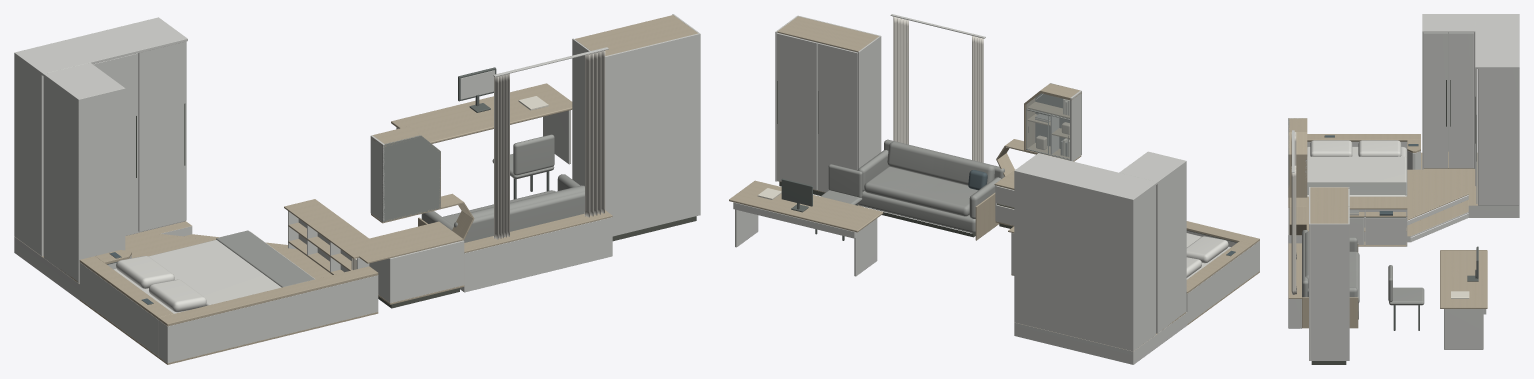
3 views of the same model, side by side, from view 1: azimuth 30°, elevation 25°; view 2: azimuth 150°, elevation 25°; view 3: azimuth 270°, elevation 25° (orthographic). The views are drawn at different scales.
Visible parts, largest first — view 1: Future system cabinet back, Wardrobe sliding front 1, Window bedside flush cabinet back, Wardrobe return bed-side end, Wardrobe return wall back, Sofa rear platform wall back, Wardrobe carcass, Integrated cabinet wall display timber spine, Wardrobe top, Duvet, Display angled mineral back, Straight desk top200x70 (+22 smaller); view 2: Wardrobe carcass, Future system cabinet flat door.001, Future system cabinet flat door, Wardrobe return wall back, Wardrobe top, Straight desk top200x70, Future system cabinet side, Platform H20, Seat single sofa seat, Head cabinet flush back, Window curtain system-side, Future system cabinet horizontal.001 (+28 smaller); view 3: Wardrobe carcass, Future system cabinet side.001, Platform H20, Wardrobe return flat door 0, Wardrobe return flat door 1, Duvet, Straight desk top200x70, Wardrobe top, Desk end frame.001, Future system cabinet horizontal.001, Integrated cabinet wall display timber spine, Step 0 H10 (+24 smaller).
Boxes of the visible parts, x1,y1,x2,y2 form: Future system cabinet back: (605,33,700,236); Wardrobe sliding front 1: (138,41,186,231); Window bedside flush cabinet back: (167,275,378,363); Wardrobe return bed-side end: (78,88,125,283); Wardrobe return wall back: (43,74,79,282); Sofa rear platform wall back: (463,217,612,292); Wardrobe carcass: (14,55,185,256); Integrated cabinet wall display timber spine: (284,193,474,263); Wardrobe top: (14,17,187,75); Duvet: (149,232,314,305); Display angled mineral back: (382,135,440,221); Straight desk top200x70: (391,83,572,143); Wardrobe carcass: (1014,172,1155,351); Future system cabinet flat door.001: (776,33,817,189); Future system cabinet flat door: (817,43,857,192); Wardrobe return wall back: (1156,161,1185,333); Wardrobe top: (1014,153,1157,201); Straight desk top200x70: (729,180,883,232); Future system cabinet side: (858,36,880,168); Platform H20: (1014,312,1187,364); Seat single sofa seat: (864,167,977,216); Head cabinet flush back: (1186,246,1252,323); Window curtain system-side: (893,16,908,144); Future system cabinet horizontal.001: (777,16,878,52); Wardrobe carcass: (1478,68,1519,205); Future system cabinet side.001: (1310,223,1349,360); Platform H20: (1407,152,1519,225); Wardrobe return flat door 0: (1423,32,1448,168); Wardrobe return flat door 1: (1449,32,1473,168); Duvet: (1307,156,1406,196); Straight desk top200x70: (1440,250,1487,308); Wardrobe top: (1475,14,1519,68); Desk end frame.001: (1444,309,1483,349); Future system cabinet horizontal.001: (1310,187,1348,223); Integrated cabinet wall display timber spine: (1289,196,1407,235); Step 0 H10: (1407,200,1468,242).
Bounding box in the file's own units: 7 × 2.53 × 3.4.
14 materials, 1 textured.
